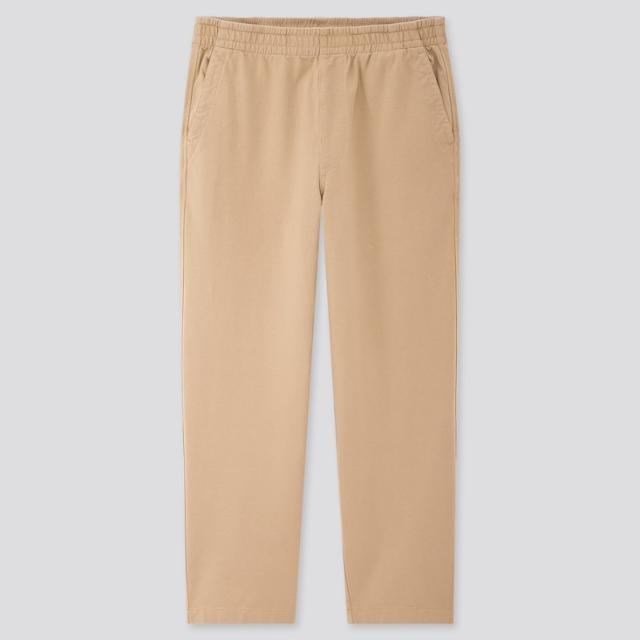long-pants: (180, 16, 461, 630)
